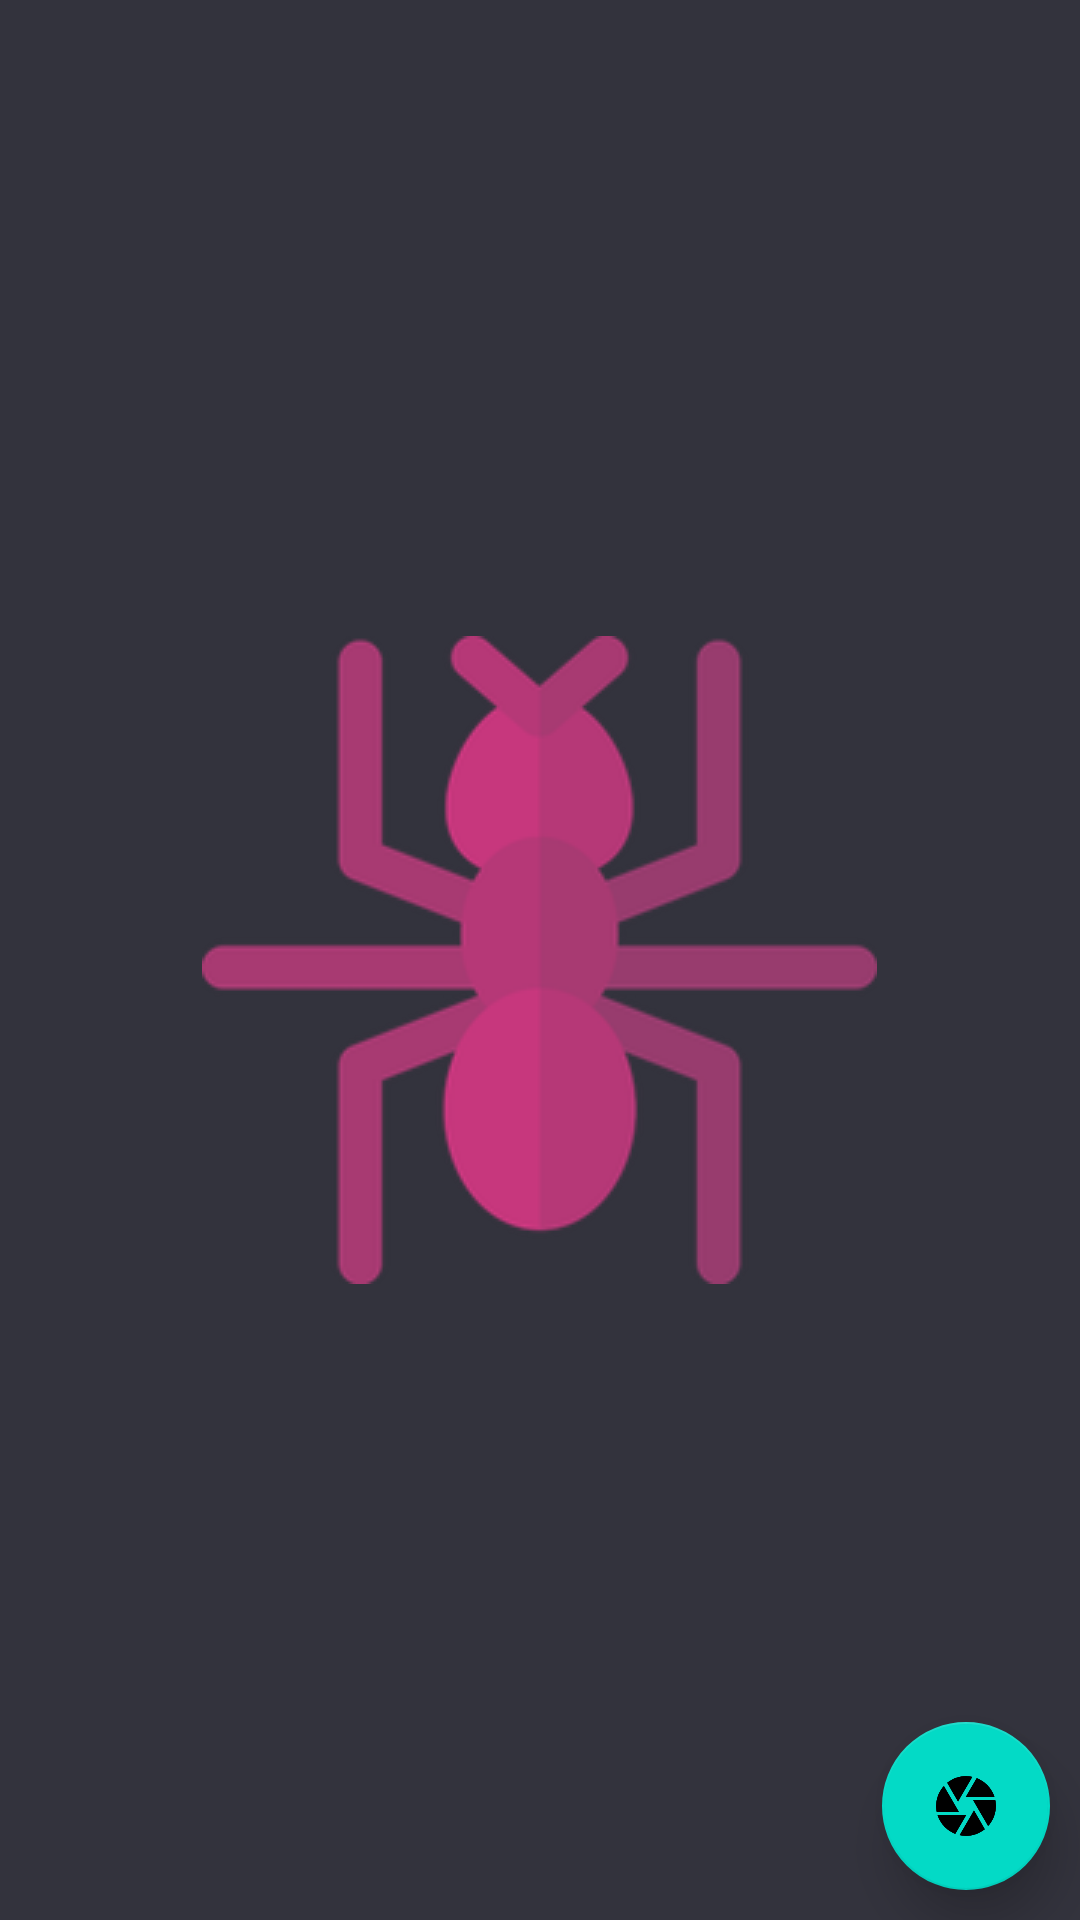

Point at icon controls on the screen. Image size 1080w x 1920h, points as (x=x, y=y).
camera: (x=966, y=1806)
